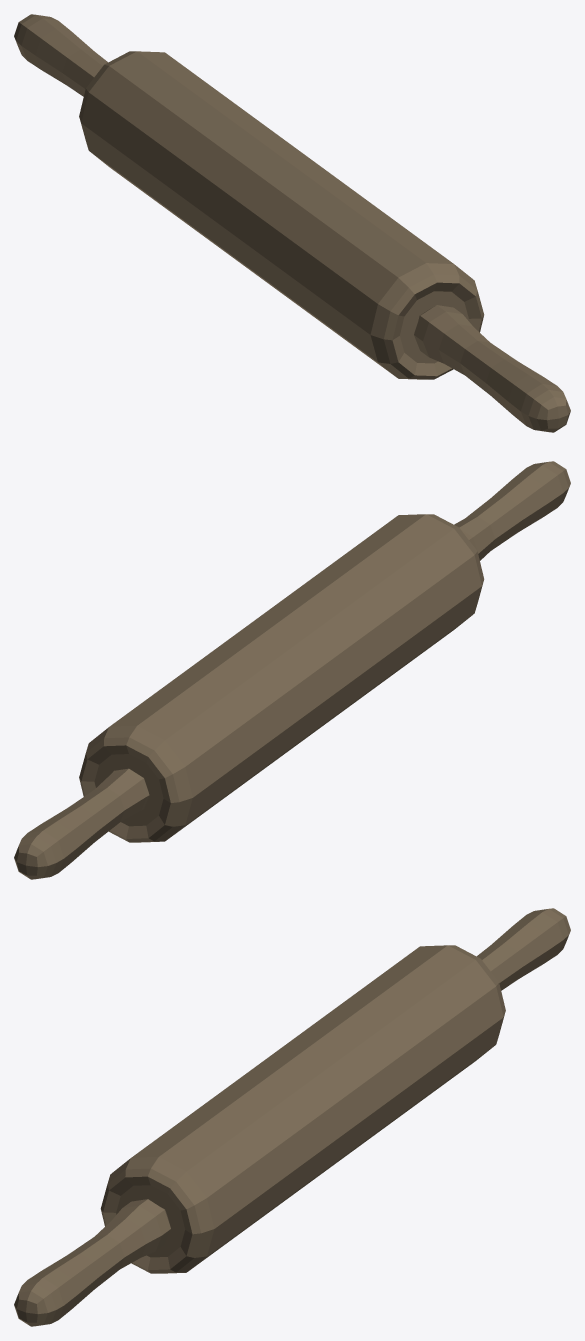
Rendered from rolling pin.glb.
3 renders of one model, top to bottom at view 1: azimuth 30°, elevation 25°; view 2: azimuth 150°, elevation 25°; view 3: azimuth 330°, elevation 25°, orthographic.
Parts seen in each view (by area): view 1: Rolling Pin; view 2: Rolling Pin; view 3: Rolling Pin.
Boxes of the visible parts, x1,y1,x2,y2 form: Rolling Pin: [14, 14, 570, 432]; Rolling Pin: [14, 461, 570, 879]; Rolling Pin: [14, 908, 570, 1326].
Size of the model in its own units: 0.1545 by 0.1545 by 1.28.
